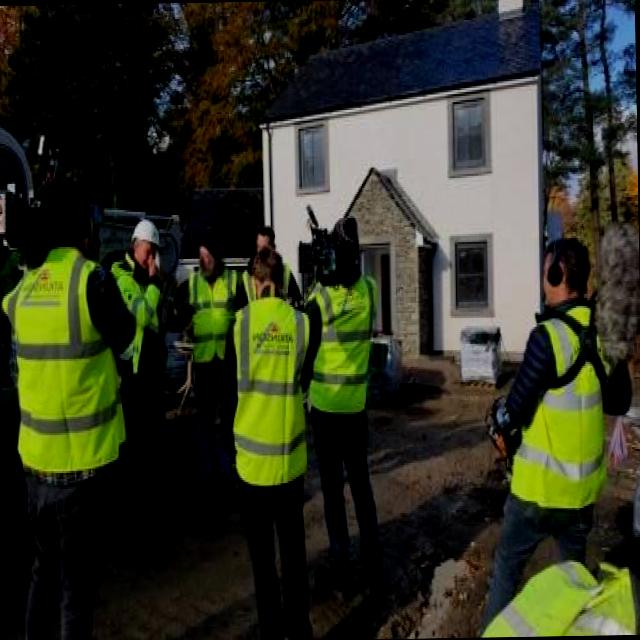helmet: (125, 212, 167, 258)
no-helmet: (31, 168, 98, 255), (538, 231, 594, 284), (324, 207, 361, 286), (249, 242, 286, 300), (196, 222, 223, 270)
no-vest: (10, 253, 116, 480)
vest: (491, 307, 616, 515), (229, 302, 302, 508), (306, 277, 376, 438), (180, 270, 240, 372), (120, 262, 157, 383)
